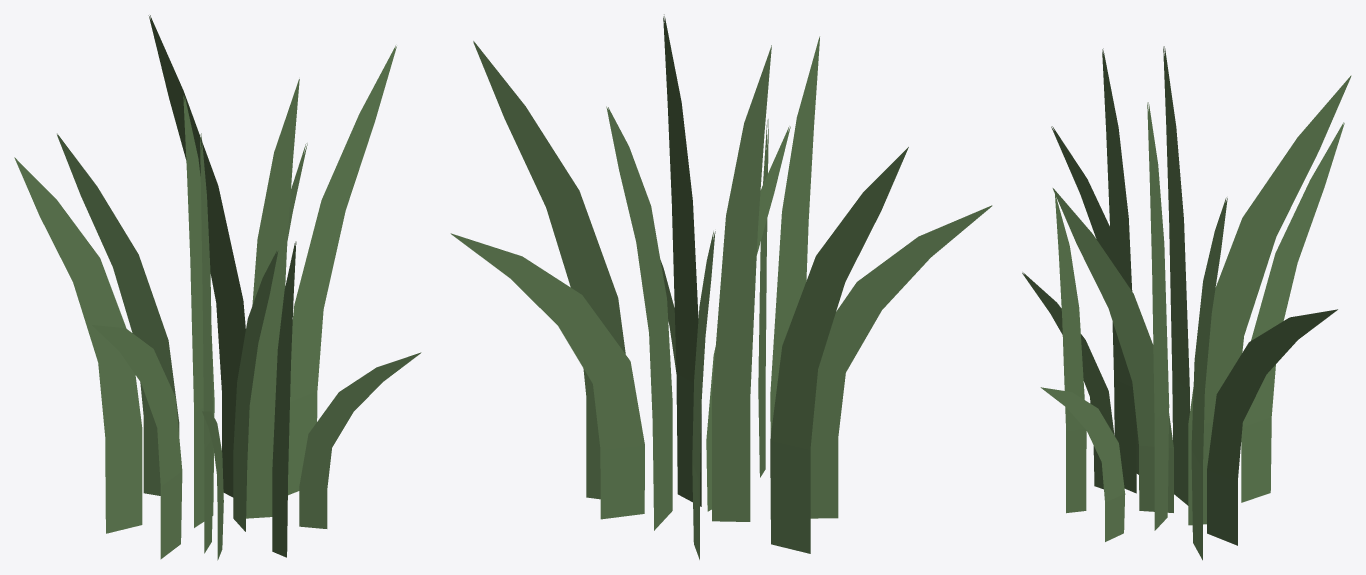
The model's file is Grass_01.fbx.
3 renders of one model, left to right at view 1: azimuth 30°, elevation 25°; view 2: azimuth 150°, elevation 25°; view 3: azimuth 270°, elevation 25°, orthographic. The views are drawn at different scales.
Parts seen in each view (by area): view 1: Grass_01; view 2: Grass_01; view 3: Grass_01.
Boxes of the visible parts, bbox=[...] form: Grass_01: bbox=[14, 15, 421, 560]; Grass_01: bbox=[450, 14, 992, 559]; Grass_01: bbox=[1022, 46, 1351, 560].
Bounding box in the file's own units: 15.07 × 16.15 × 10.93.
